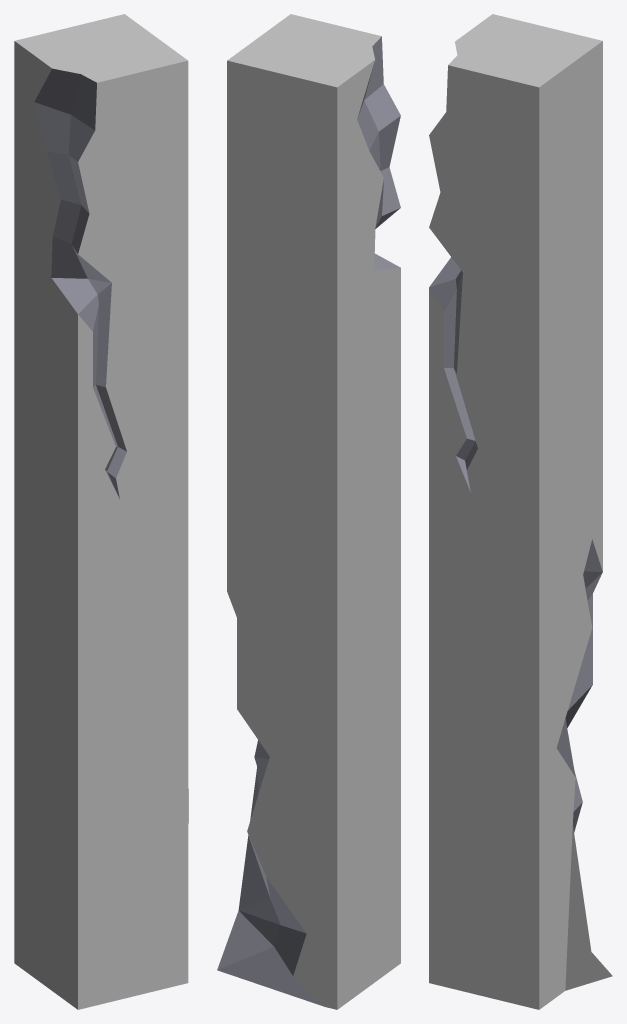
Rendered from CrackedPillar.glb.
3 renders of one model, left to right at view 1: azimuth 30°, elevation 25°; view 2: azimuth 150°, elevation 25°; view 3: azimuth 330°, elevation 25°, orthographic.
Visible parts, largest first — view 1: brute_pillar_cracked; view 2: brute_pillar_cracked; view 3: brute_pillar_cracked.
Boxes of the visible parts, left/top/right/bottom form: brute_pillar_cracked: left=14, top=14, right=188, bottom=1009; brute_pillar_cracked: left=217, top=14, right=400, bottom=1009; brute_pillar_cracked: left=429, top=14, right=612, bottom=1009.
Size of what is drawn, in the model's own units: 0.6028 by 4 by 0.5.
Materials: 1 (1 with a texture image).
